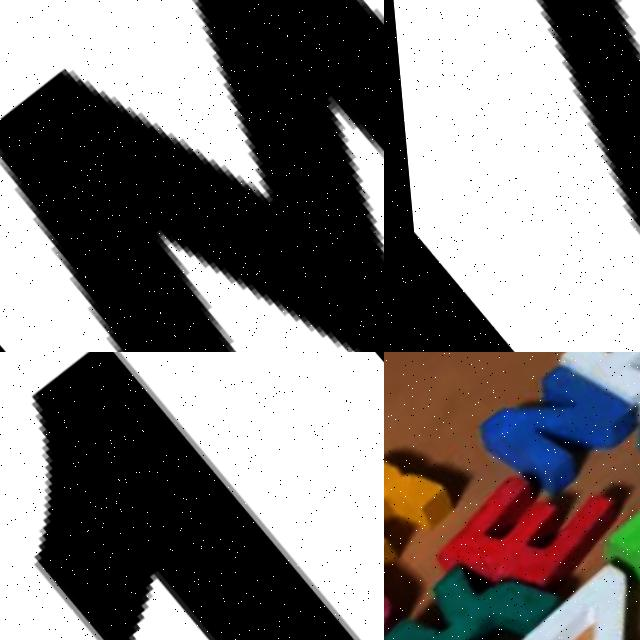1: (0, 352, 384, 640)
9: (384, 0, 640, 352)
E: (408, 421, 635, 627)
F: (589, 451, 640, 624)
H: (534, 352, 640, 444)
K: (384, 498, 592, 640)
M: (0, 0, 384, 352)
N: (450, 352, 640, 521)
R: (384, 419, 459, 595)
Z: (498, 535, 640, 640)
